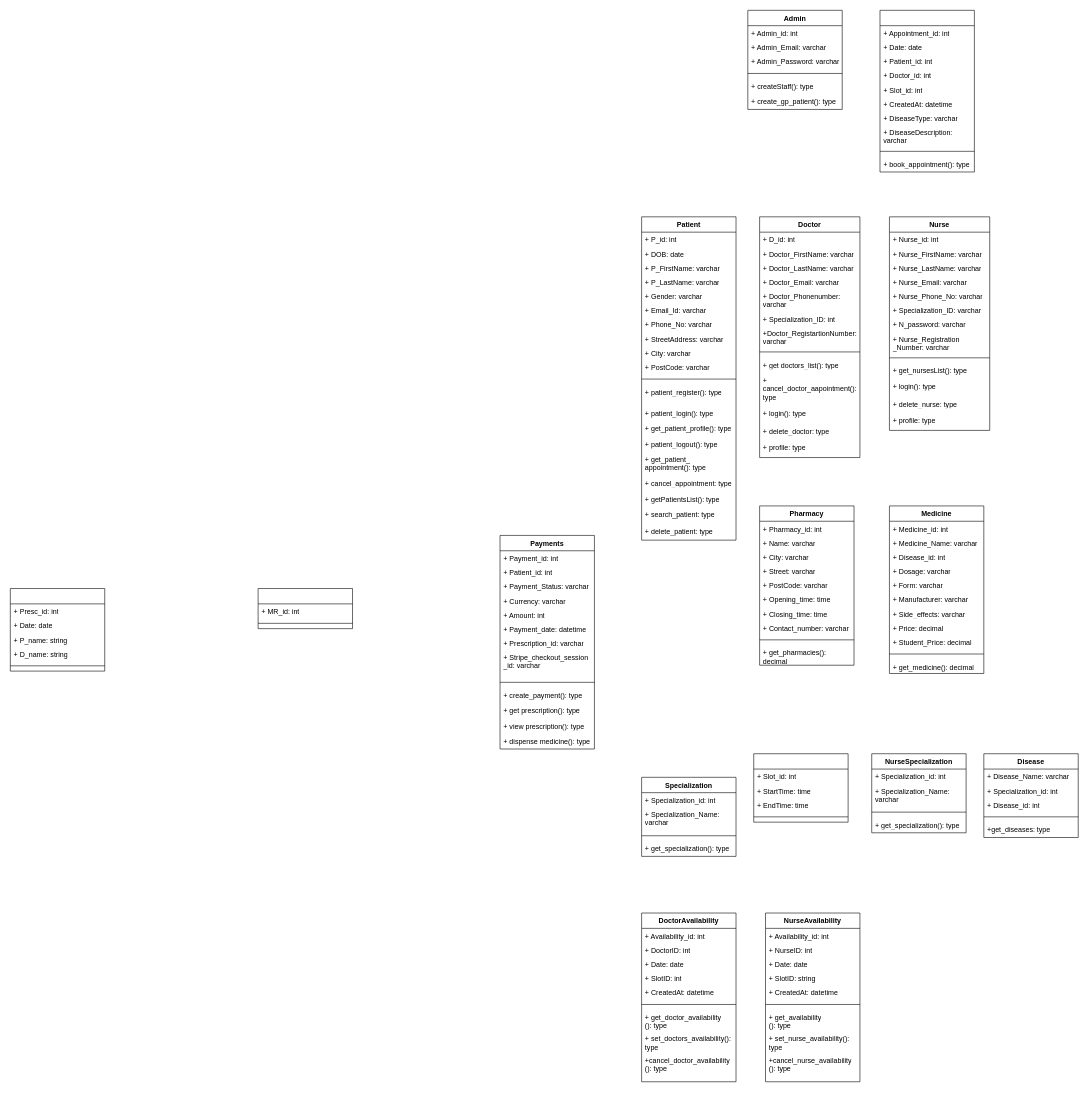
Some shapes in this 1089 by 1094 pixel diagram are drawn without their labels. The box of each missing label's shape, as (x1, y1, x2, y2) in pixels:
Appoiment: (879, 10, 974, 172)
Medical records: (258, 588, 353, 629)
Prescription: (10, 588, 105, 671)
Slots: (753, 753, 848, 822)
